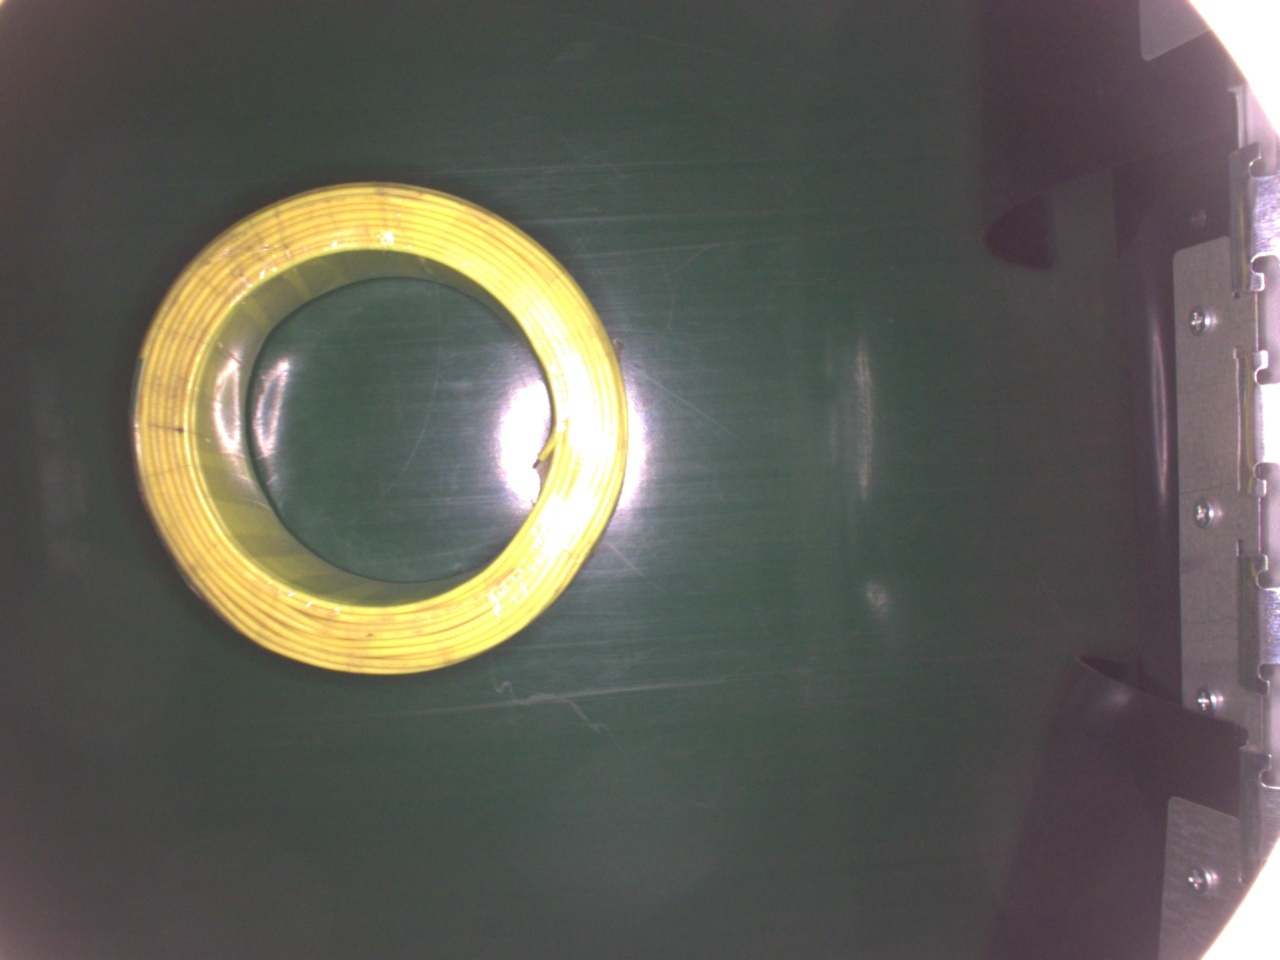yellow: (130, 183, 631, 683)
